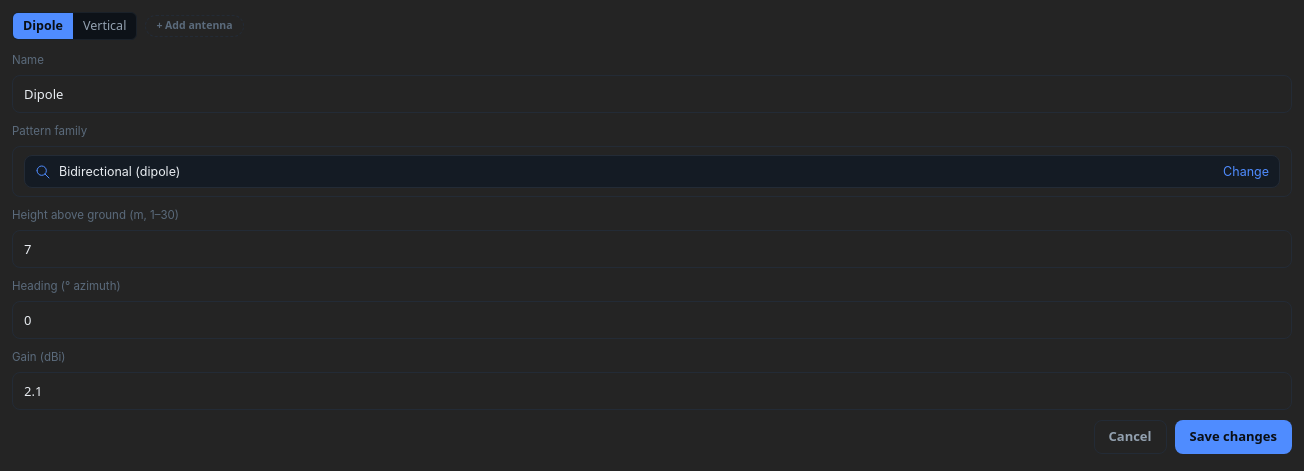
AntennaList › unsaved-changes indicator › clears when the edit is discarded via the form Cancel button
Replace the text in the number field named "Height above ground (m)" with "12" at (652, 249), box [24,239,1280,259]
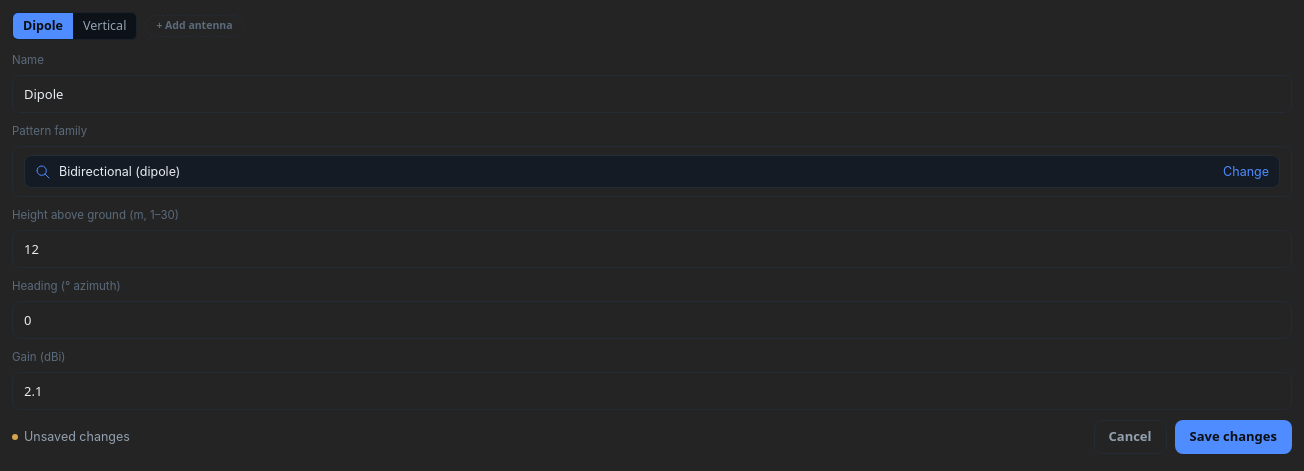
Now the text "Unsaved changes" is shown, box [24,427,130,447]
Click the button "Cancel".
click(1130, 437)  # box [1094,420,1166,454]
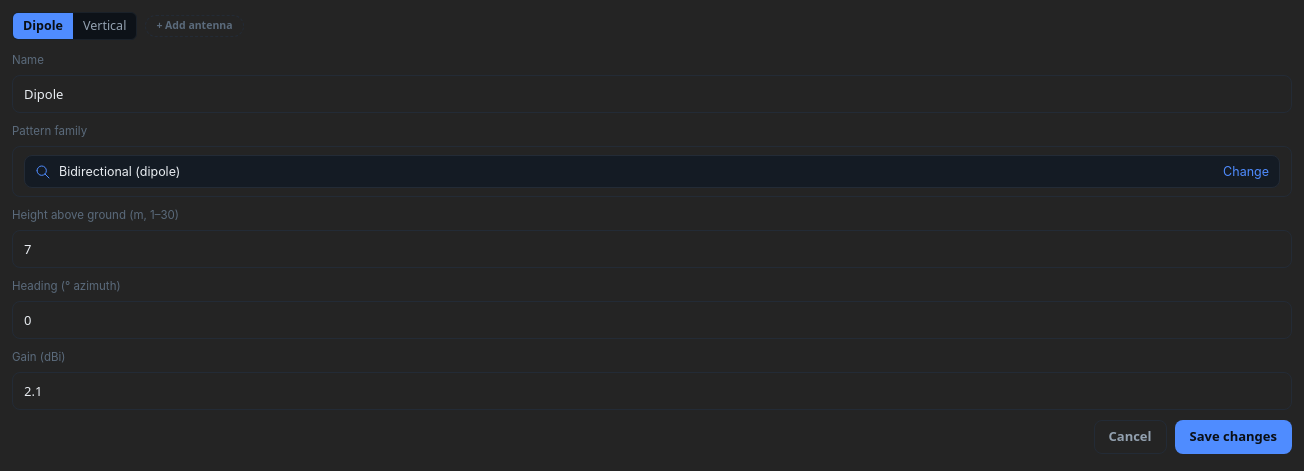
Now the text "Unsaved changes" is gone
Now the number field named "Height above ground (m)" holds "7", box [24,239,1280,259]
